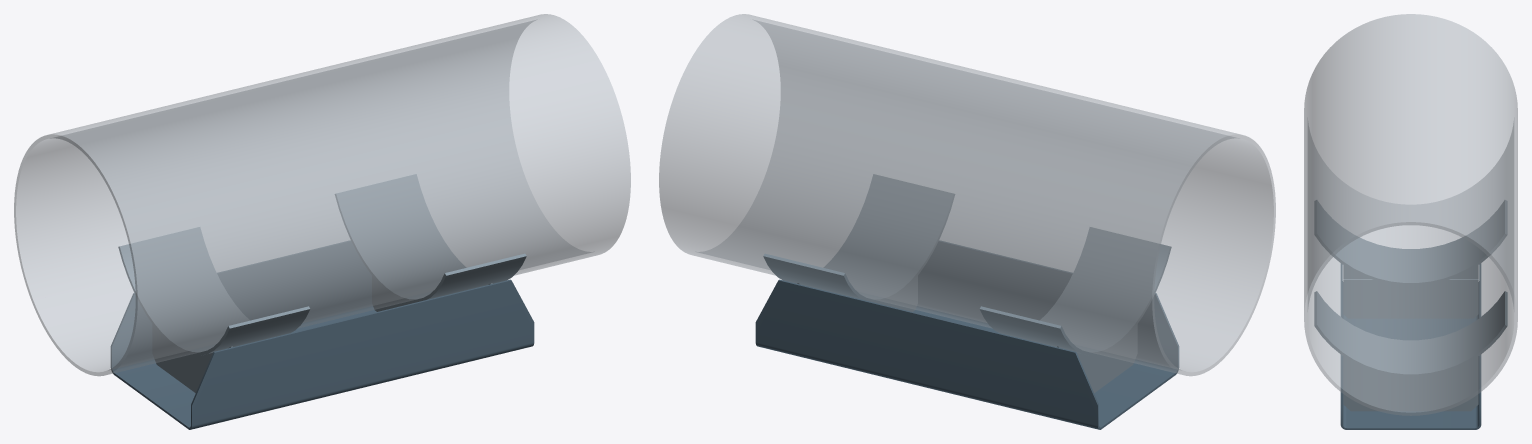
Rendered from TS-624.000-087-opora-dn426-H100-L680.glb.
3 views of the same model, side by side, from view 1: azimuth 30°, elevation 25°; view 2: azimuth 150°, elevation 25°; view 3: azimuth 270°, elevation 25° (orthographic). The views are drawn at different scales.
Parts seen in each view (by area): view 1: truba, skoba, podushka_0, podushka_1, rebro3_0, rebro4_1; view 2: truba, skoba, podushka_0, podushka_1, rebro3_0, rebro4_1; view 3: truba, podushka_1, podushka_0, skoba, rebro3_1, rebro4_0, rebro3_0.
Part boxes in pixels (x1,y1,x2,y2): truba: [14, 14, 630, 376]; skoba: [110, 240, 534, 429]; podushka_0: [118, 227, 309, 355]; podushka_1: [335, 174, 526, 302]; rebro3_0: [152, 325, 232, 393]; rebro4_1: [372, 276, 414, 311]; truba: [659, 14, 1275, 376]; skoba: [755, 240, 1179, 429]; podushka_0: [980, 227, 1171, 355]; podushka_1: [763, 174, 954, 302]; rebro3_0: [1057, 325, 1137, 393]; rebro4_1: [875, 276, 917, 311]; truba: [1304, 14, 1517, 415]; podushka_1: [1314, 291, 1507, 376]; podushka_0: [1314, 200, 1507, 285]; skoba: [1340, 264, 1481, 429]; rebro3_1: [1343, 356, 1478, 411]; rebro4_0: [1343, 279, 1478, 318]; rebro3_0: [1343, 265, 1478, 278].
Size of the model in its own units: 980 by 527 by 426.
